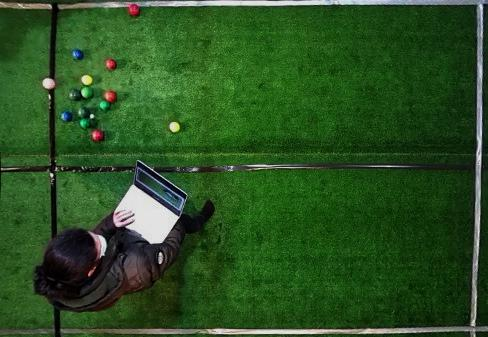blue: (61, 111, 72, 122), (72, 49, 83, 60)
green: (79, 117, 91, 129), (81, 87, 93, 98), (69, 89, 80, 100), (77, 107, 89, 117), (100, 100, 110, 111)
red: (42, 77, 56, 90), (128, 4, 140, 17), (104, 90, 117, 102), (92, 129, 104, 142), (106, 59, 116, 70)
vline: (1, 89, 57, 235), (469, 1, 487, 336), (1, 1, 58, 76), (1, 308, 61, 336)
white: (90, 114, 94, 119)
yellow: (81, 75, 93, 85), (169, 122, 180, 132)
